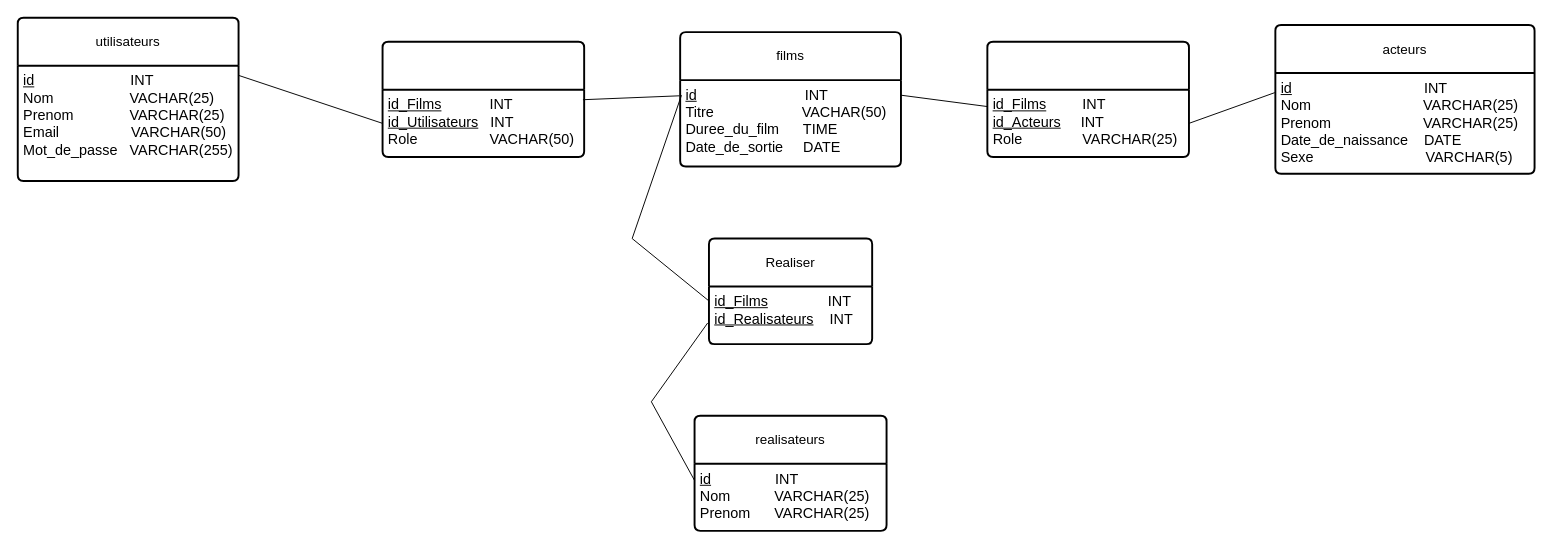
This 1551x548 diagram has some shape labels left out. The shapes that lost their labels are listed below. From the top down, each one's box as (x1, y1, x2, y2) in pixels, then its label:
(381, 40, 585, 157): favoris
(986, 40, 1189, 157): jouer
